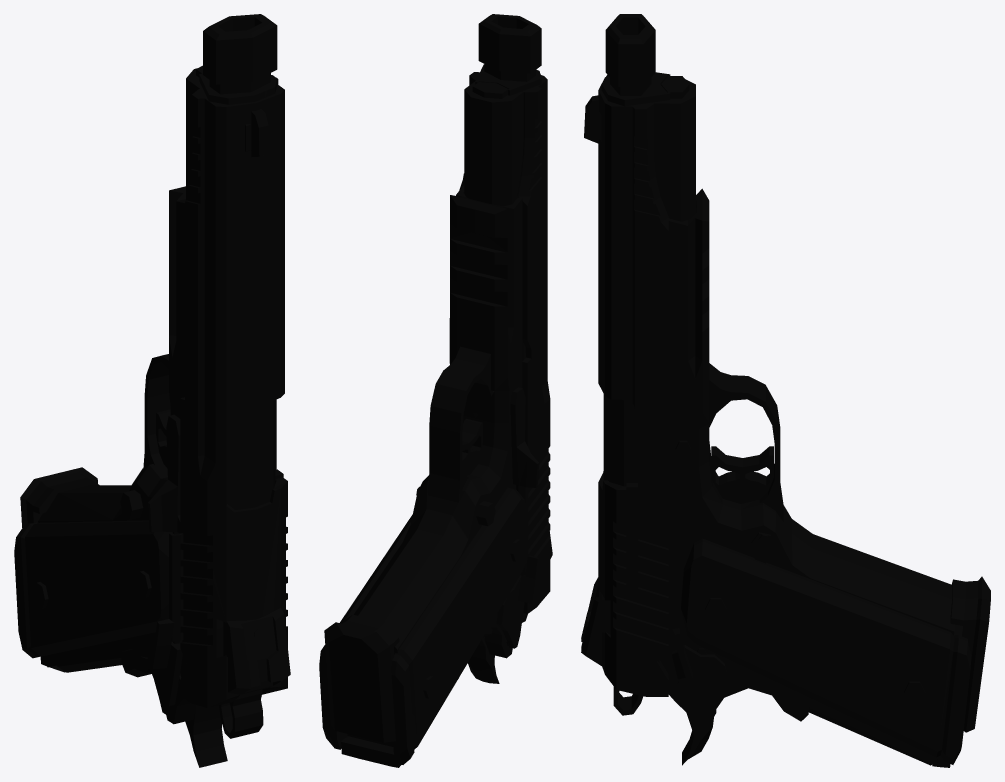
3 views of the same model, side by side, from view 1: azimuth 30°, elevation 25°; view 2: azimuth 150°, elevation 25°; view 3: azimuth 270°, elevation 25° (orthographic). The views are drawn at different scales.
Visible parts, largest first — view 1: asset_M45A1.001; view 2: asset_M45A1.001; view 3: asset_M45A1.001.
Boxes of the visible parts, box(x1,y1,x2,y2) form: asset_M45A1.001: box(14, 14, 290, 767); asset_M45A1.001: box(319, 14, 552, 767); asset_M45A1.001: box(581, 14, 990, 767).
Bounding box in the file's own units: 0.022 × 0.1332 × 0.0675.
